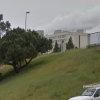Tree: (1, 18, 61, 74)
